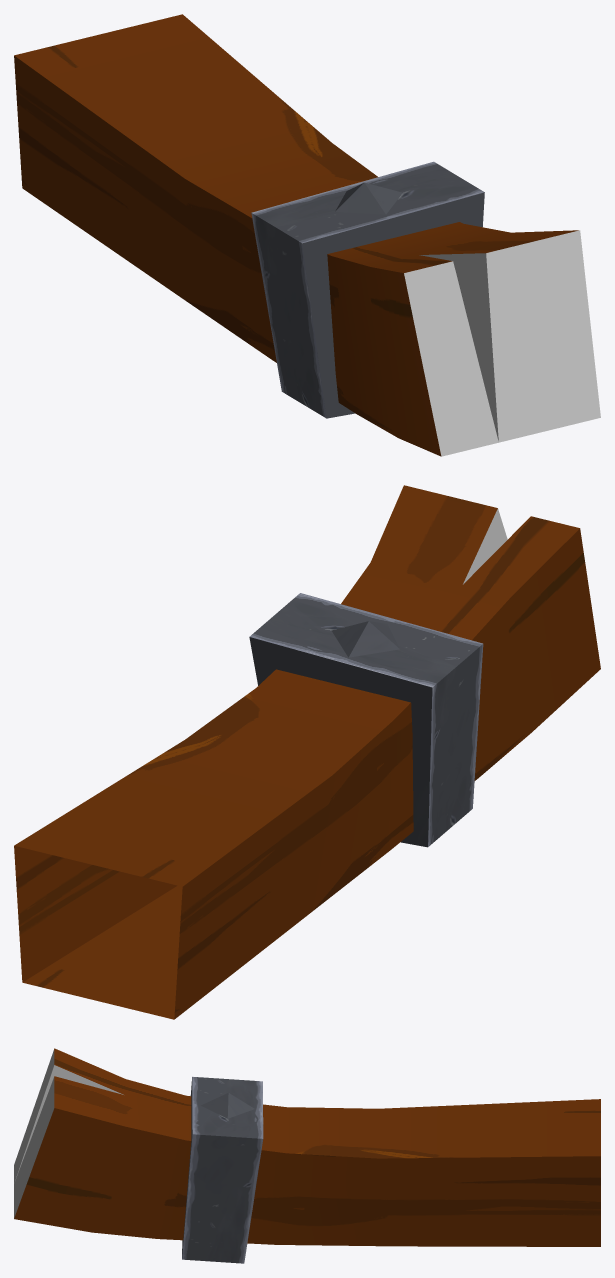
Rendered from SM_BLD_beam_small_v05_02.fbx.
3 views of the same model, one above another, from view 1: azimuth 30°, elevation 25°; view 2: azimuth 150°, elevation 25°; view 3: azimuth 270°, elevation 25° (orthographic). The views are drawn at different scales.
Parts seen in each view (by area): view 1: SM_BLD_beam_small_v05_02; view 2: SM_BLD_beam_small_v05_02; view 3: SM_BLD_beam_small_v05_02.
Part boxes in pixels (<box>): SM_BLD_beam_small_v05_02: <box>14,14,600,456</box>; SM_BLD_beam_small_v05_02: <box>14,485,600,1019</box>; SM_BLD_beam_small_v05_02: <box>14,1048,600,1263</box>.
Size of the model in its own units: 75.11 by 90.99 by 301.
